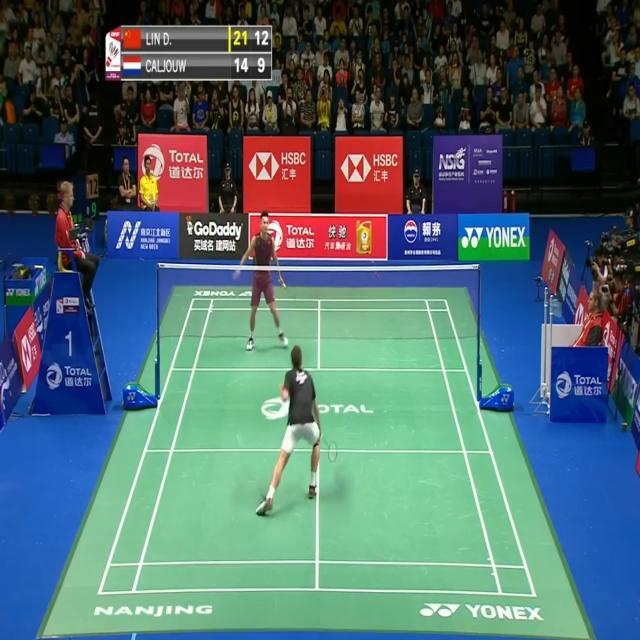Player1: (253, 342, 341, 527)
Player2: (229, 206, 293, 348)
